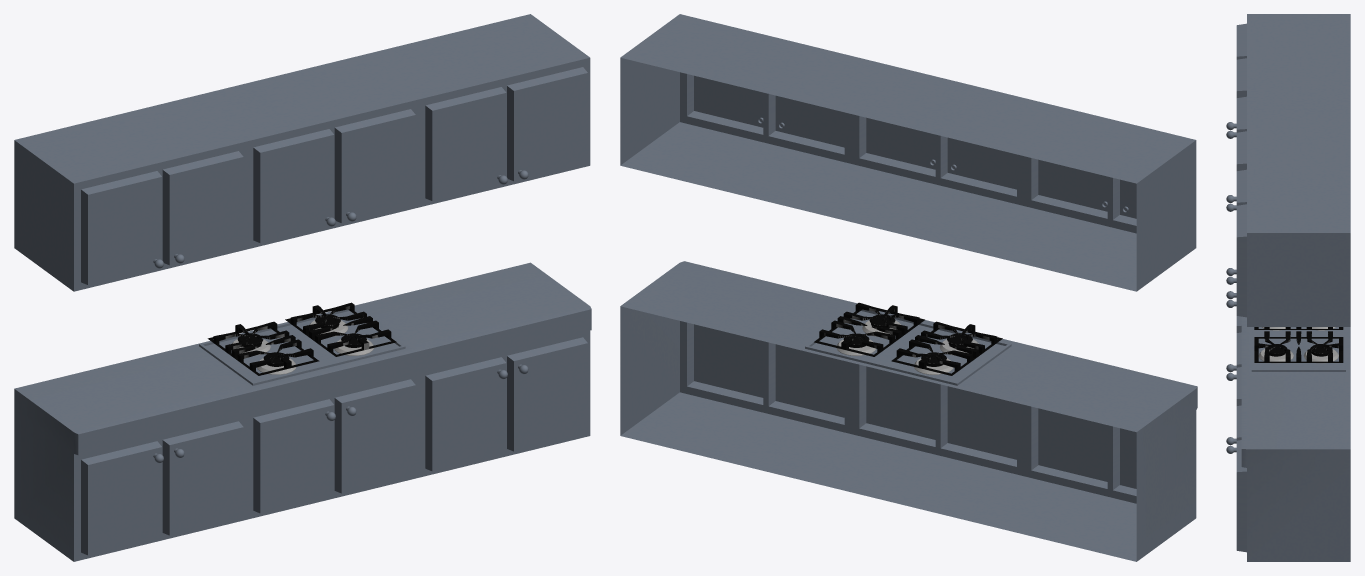
The model's file is ALACENA-ESTUFA.obj.
3 renders of one model, left to right at view 1: azimuth 30°, elevation 25°; view 2: azimuth 150°, elevation 25°; view 3: azimuth 270°, elevation 25°, orthographic. The views are drawn at different scales.
Parts seen in each view (by area): view 1: ALACENA_ESTUFA:ALACENA_ESTUFA_Plane_002; view 2: ALACENA_ESTUFA:ALACENA_ESTUFA_Plane_002; view 3: ALACENA_ESTUFA:ALACENA_ESTUFA_Plane_002.
Part boxes in pixels (x1=…): ALACENA_ESTUFA:ALACENA_ESTUFA_Plane_002: x1=14, y1=14, x2=591, y2=561; ALACENA_ESTUFA:ALACENA_ESTUFA_Plane_002: x1=620, y1=14, x2=1197, y2=561; ALACENA_ESTUFA:ALACENA_ESTUFA_Plane_002: x1=1226, y1=14, x2=1350, y2=561.
Size of the model in its own units: 15 by 10.5 by 3.6.
Materials: 1 (1 with a texture image).
